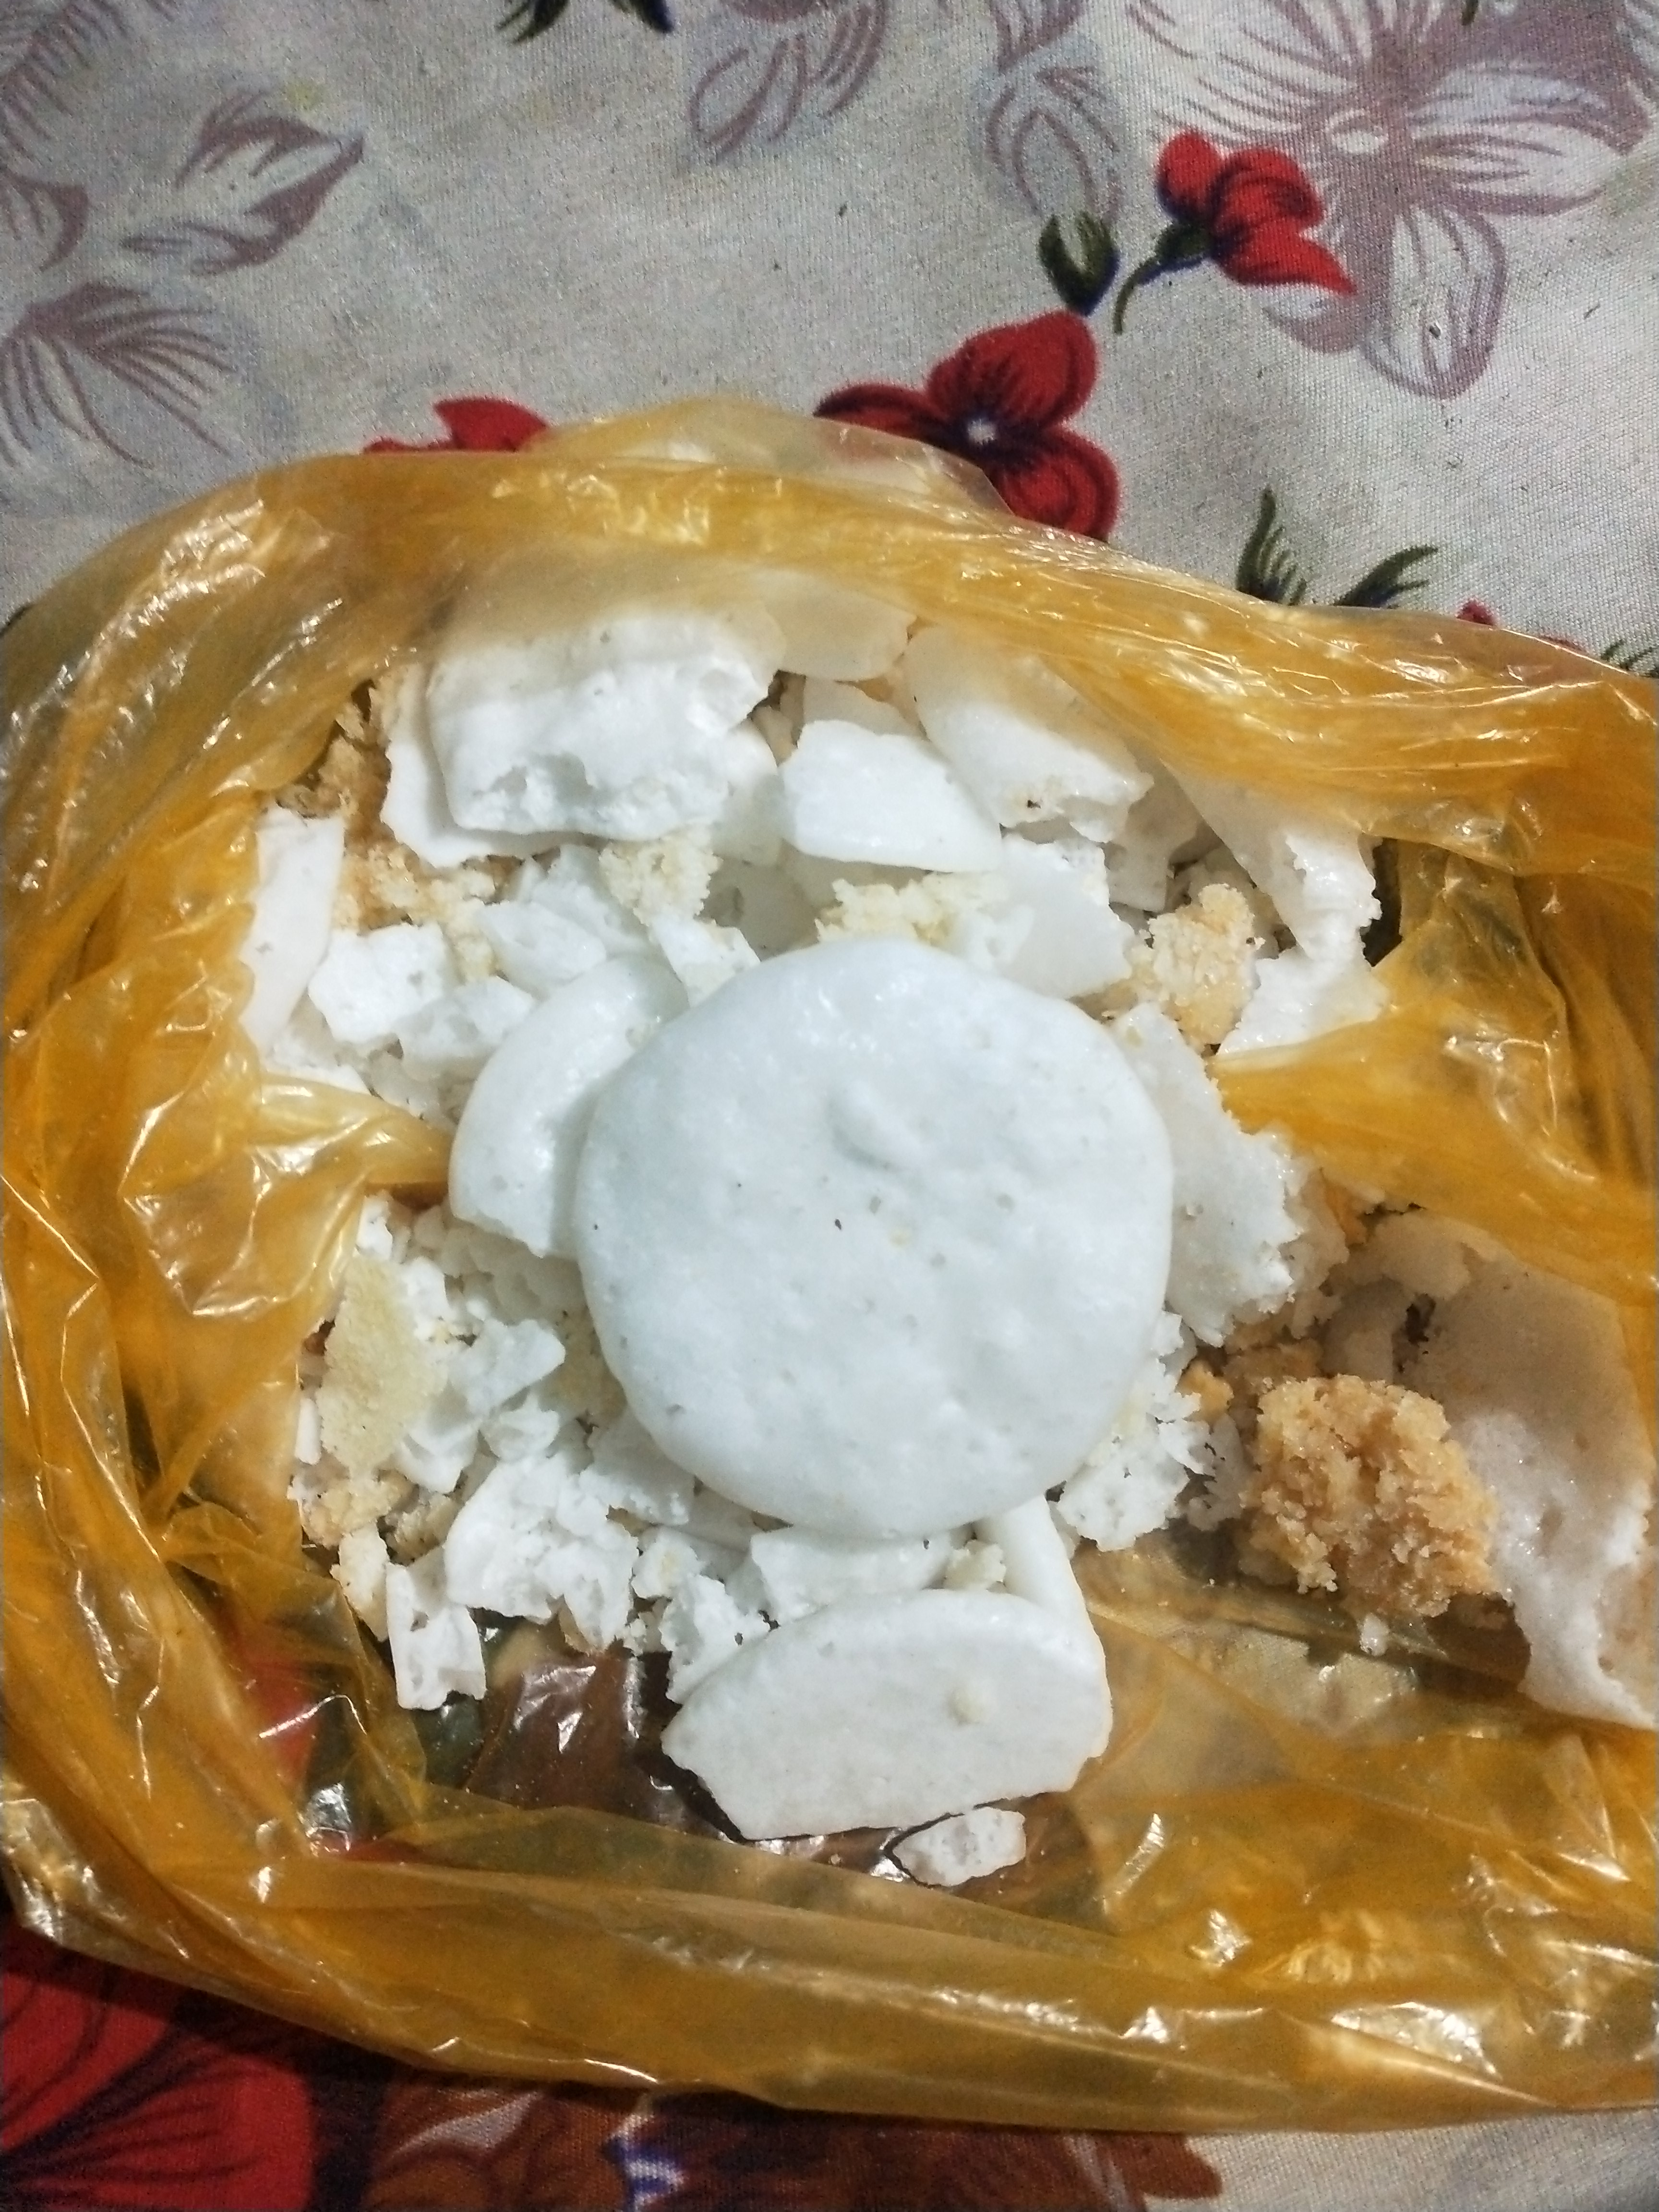food: (132, 523, 1659, 1898)
